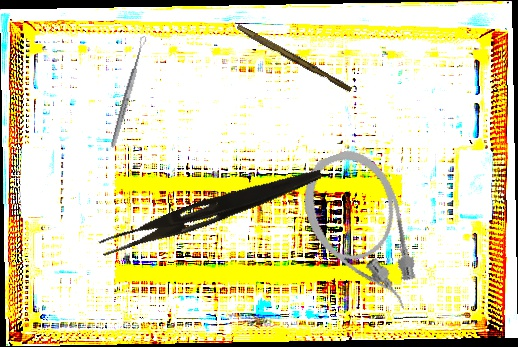Cannula: (290, 140, 433, 328)
Dressing Forceps: (98, 157, 324, 265)
Scalpel Handle: (234, 24, 354, 93)
Surgical Spoon: (109, 35, 148, 149)
